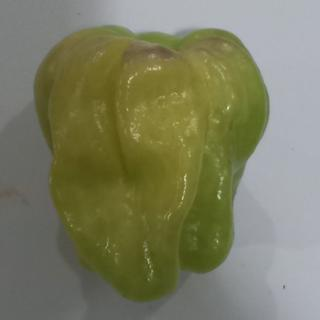Grade-A: (26, 19, 273, 306)
